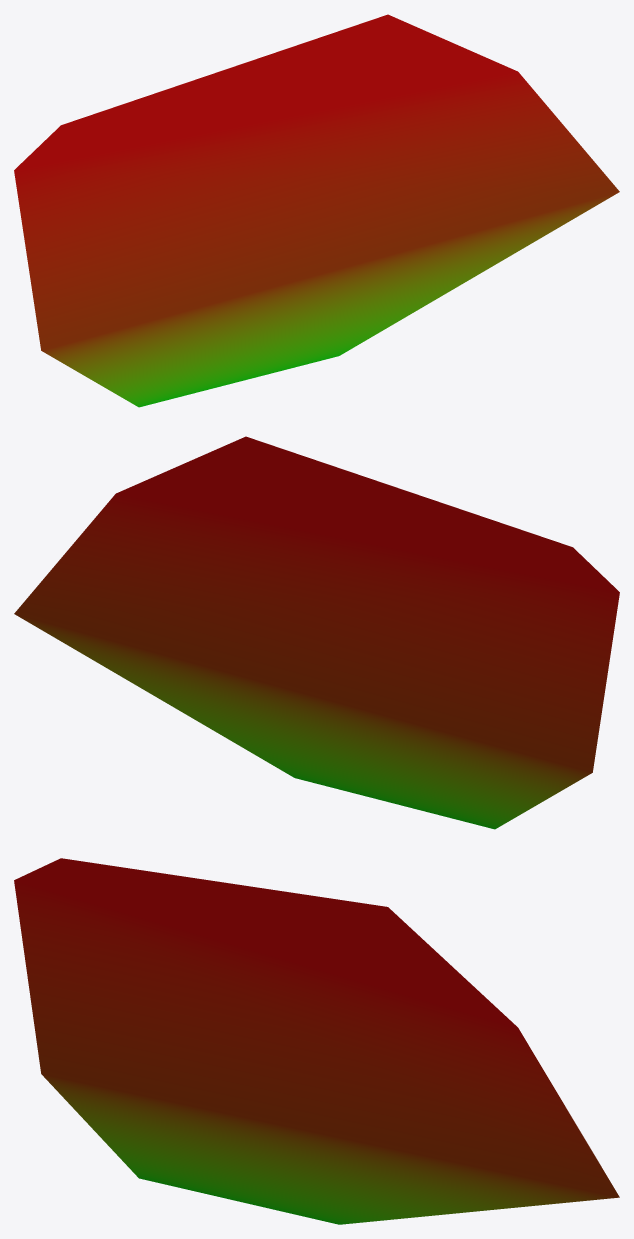
File: Var7_LOD4.fbx
3 renders of one model, top to bottom at view 1: azimuth 30°, elevation 25°; view 2: azimuth 150°, elevation 25°; view 3: azimuth 330°, elevation 25°, orthographic.
Parts seen in each view (by area): view 1: _c50d_Var7_LOD4; view 2: _c50d_Var7_LOD4; view 3: _c50d_Var7_LOD4.
Boxes of the visible parts, bbox=[...] form: _c50d_Var7_LOD4: bbox=[14, 14, 619, 407]; _c50d_Var7_LOD4: bbox=[14, 436, 619, 829]; _c50d_Var7_LOD4: bbox=[14, 858, 619, 1224].
Size of the model in its own units: 24.61 by 12.89 by 4.04e-07.
